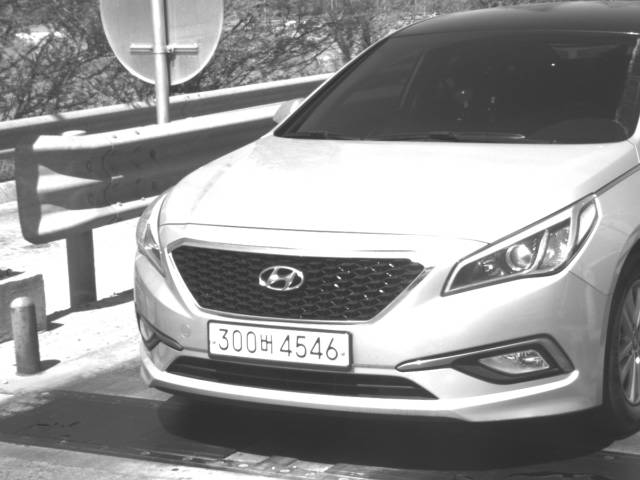car: (132, 6, 640, 432)
plate: (206, 319, 354, 371)
